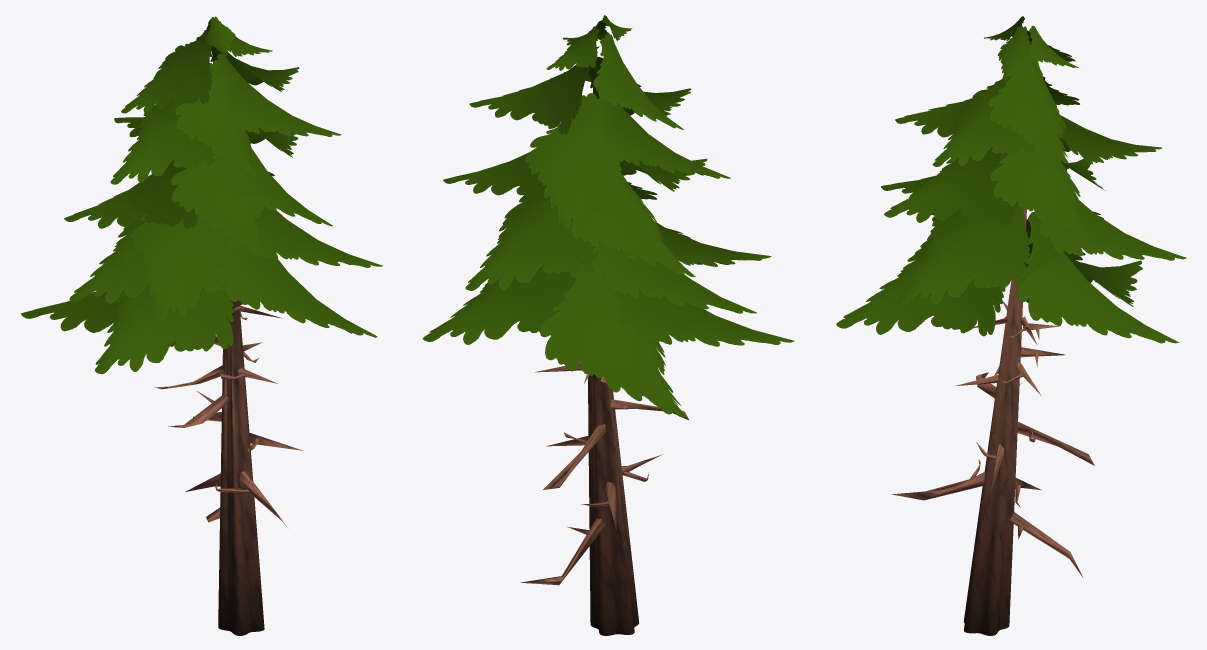
File: mk-pine-3-lo.glb
The picture shows the model from 3 angles, left to right: view 1: azimuth 30°, elevation 25°; view 2: azimuth 150°, elevation 25°; view 3: azimuth 270°, elevation 25°; orthographic projection. The views are drawn at different scales.
Visible parts, largest first — view 1: Pine_3; view 2: Pine_3; view 3: Pine_3.
Boxes of the visible parts, x1,y1,x2,y2 form: Pine_3: [21, 16, 382, 635]; Pine_3: [422, 15, 794, 635]; Pine_3: [836, 16, 1186, 635].
Size of the model in its own units: 3.61 by 7.39 by 4.
2 materials, 2 textured.
